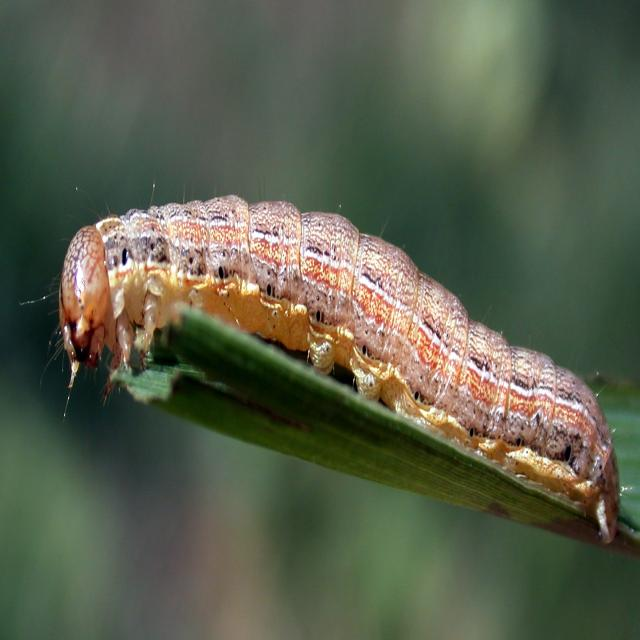armyworm: (28, 147, 632, 585)
